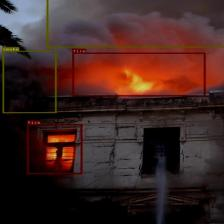fire: (72, 52, 205, 96), (27, 124, 82, 174)
smoke: (46, 0, 224, 47), (2, 50, 56, 113)
